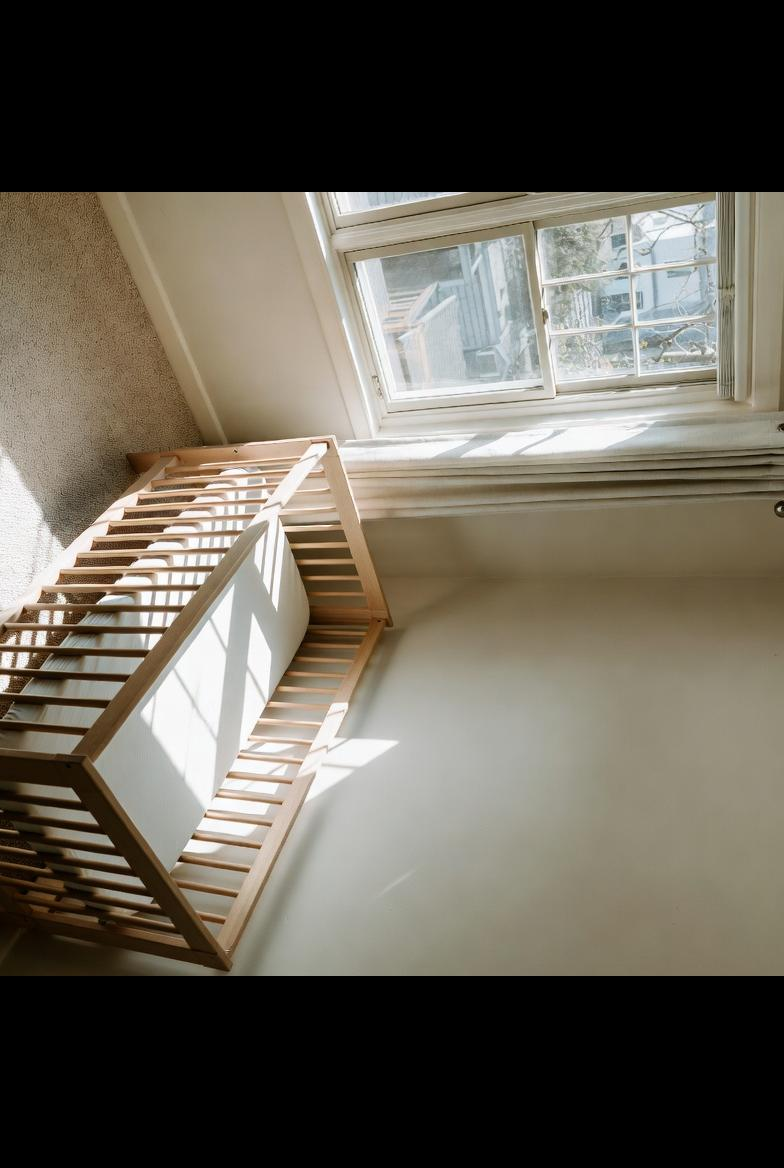crib: (0, 438, 388, 970)
